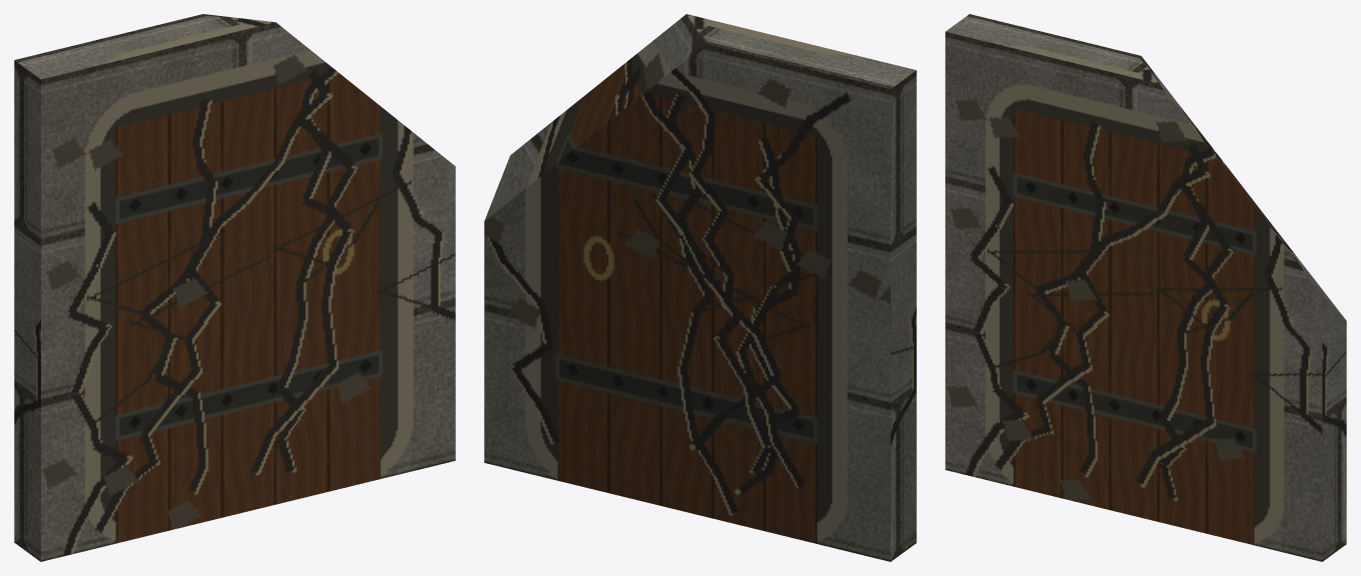
Rendered from door_z3.glb.
The picture shows the model from 3 angles, left to right: view 1: azimuth 30°, elevation 25°; view 2: azimuth 150°, elevation 25°; view 3: azimuth 330°, elevation 25°; orthographic projection. The views are drawn at different scales.
Parts seen in each view (by area): view 1: door_z3; view 2: door_z3; view 3: door_z3.
Part boxes in pixels (x1,y1,x2,y2): door_z3: (14, 14, 455, 561); door_z3: (484, 14, 916, 561); door_z3: (945, 14, 1346, 561).
Bounding box in the file's own units: 0.9 × 1 × 0.1.
1 material, 1 textured.
